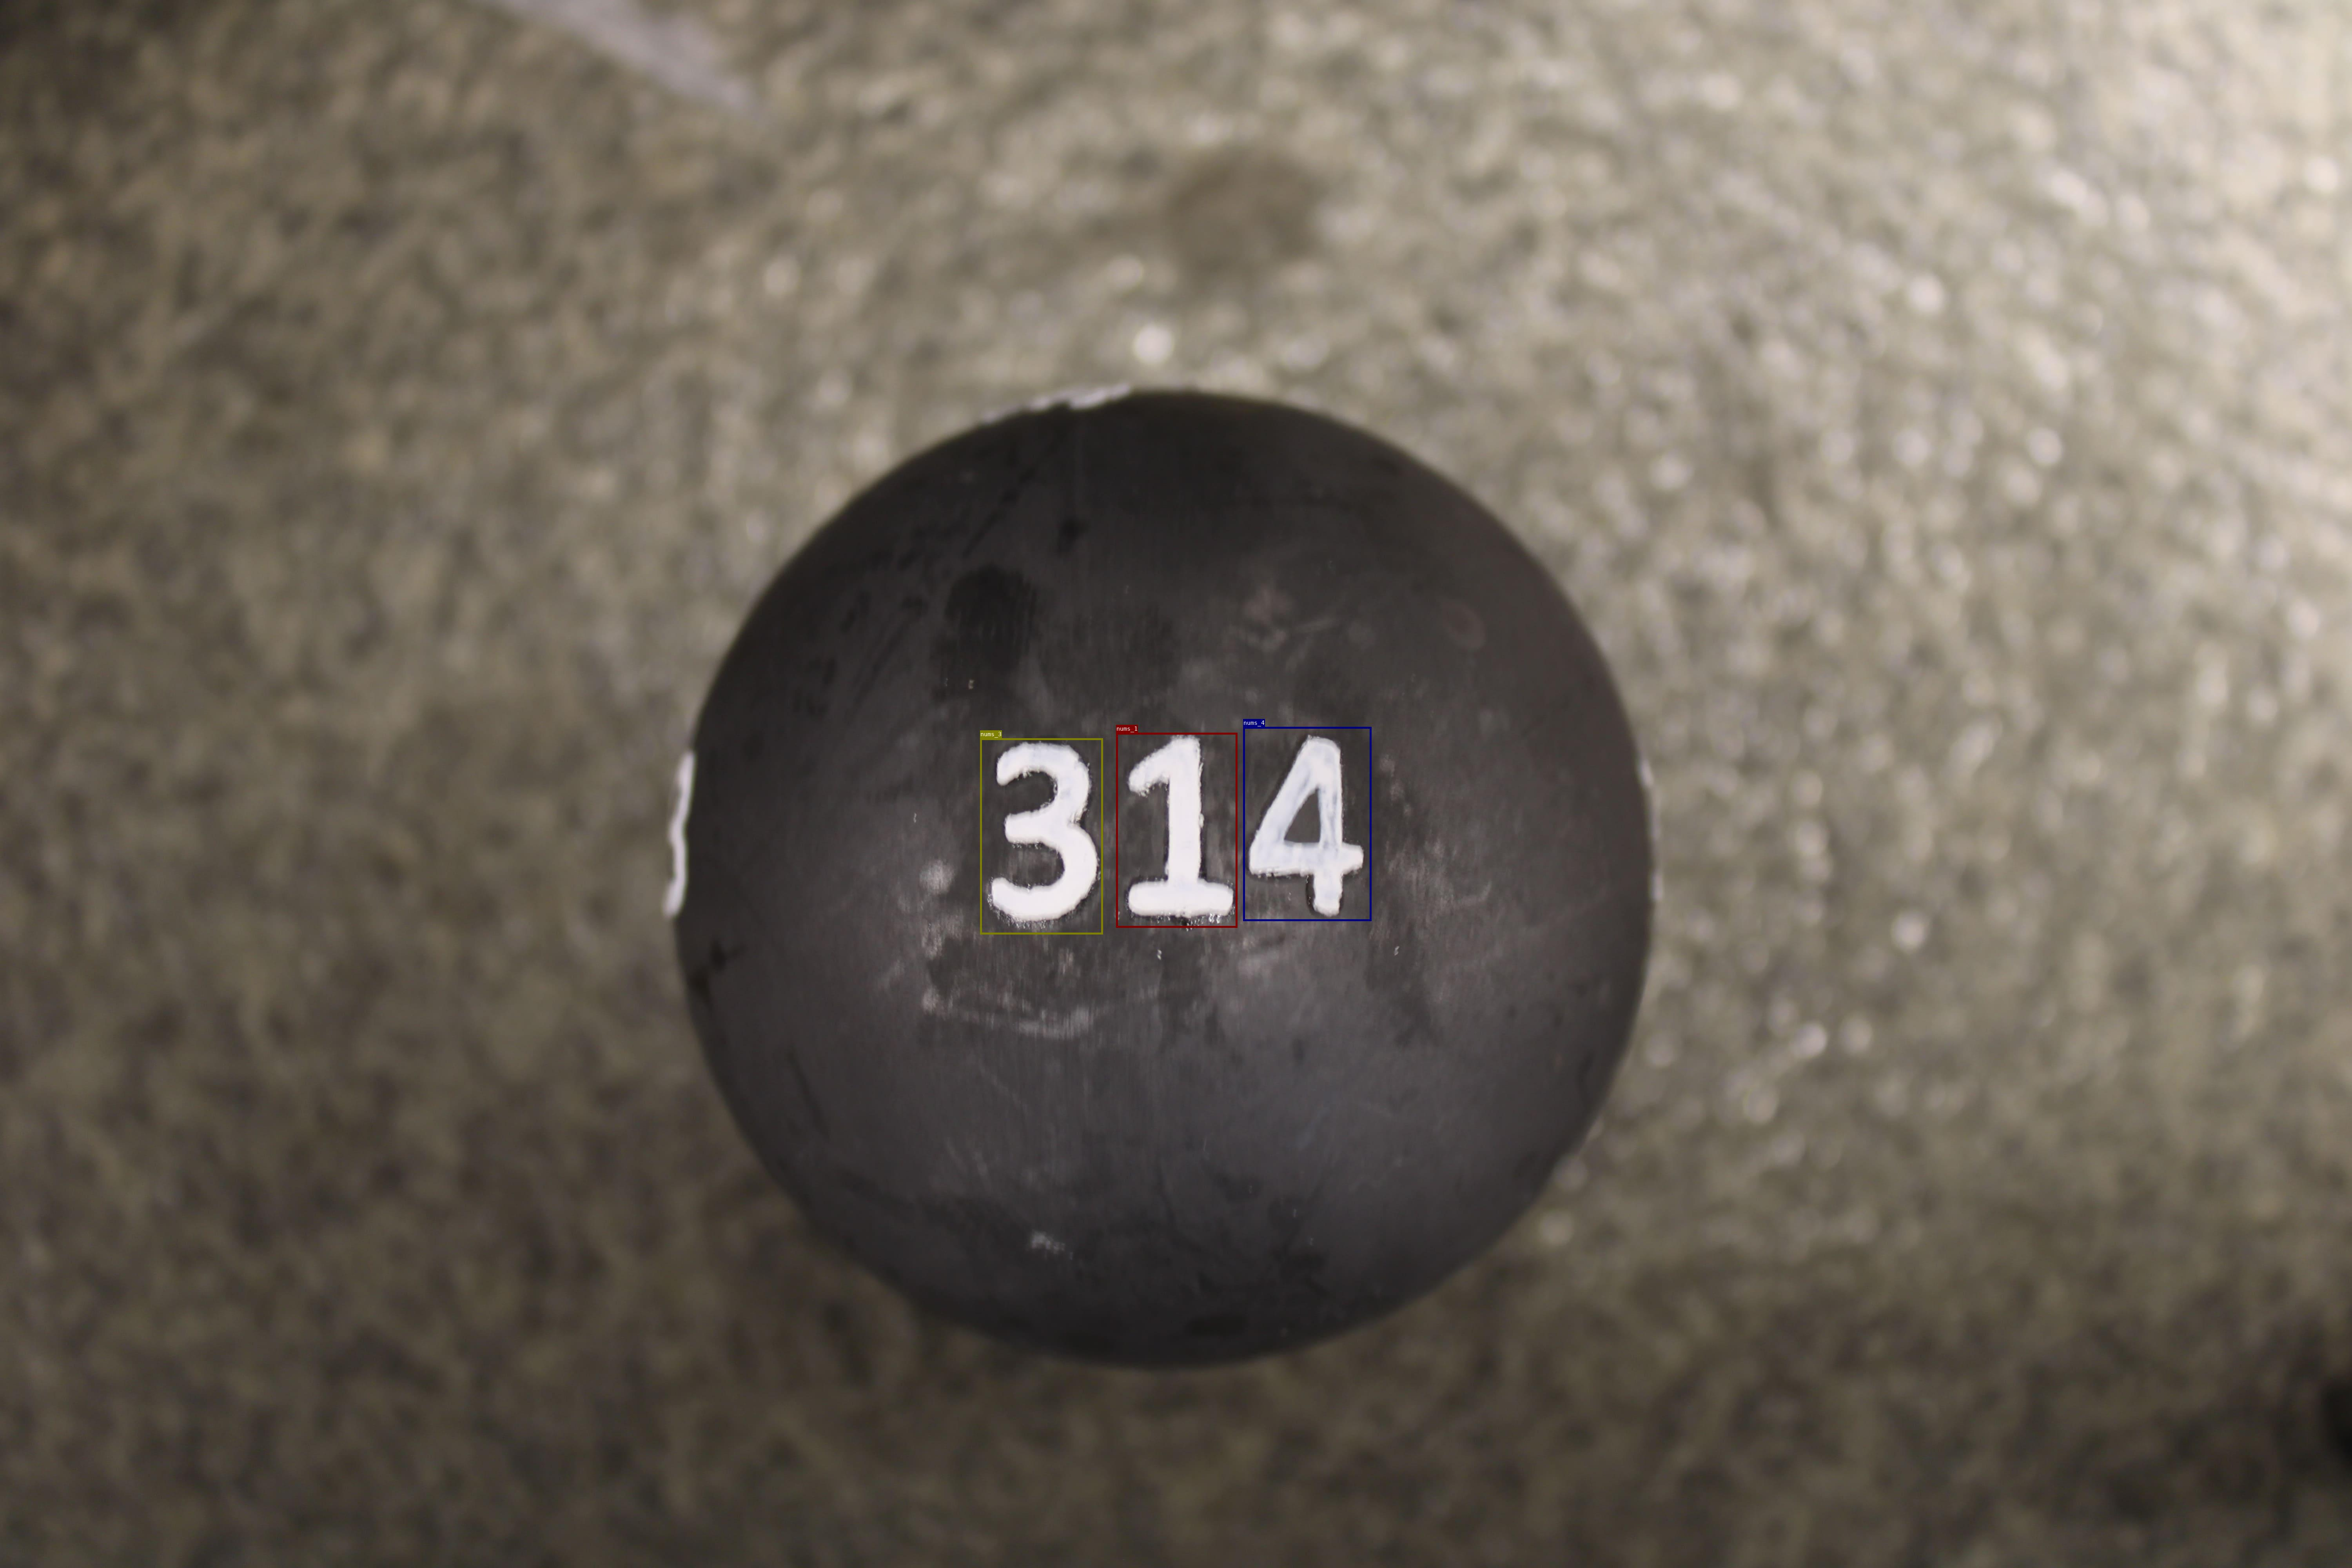nums_1: (1116, 733, 1237, 927)
nums_3: (980, 739, 1102, 935)
nums_4: (1243, 726, 1372, 921)
